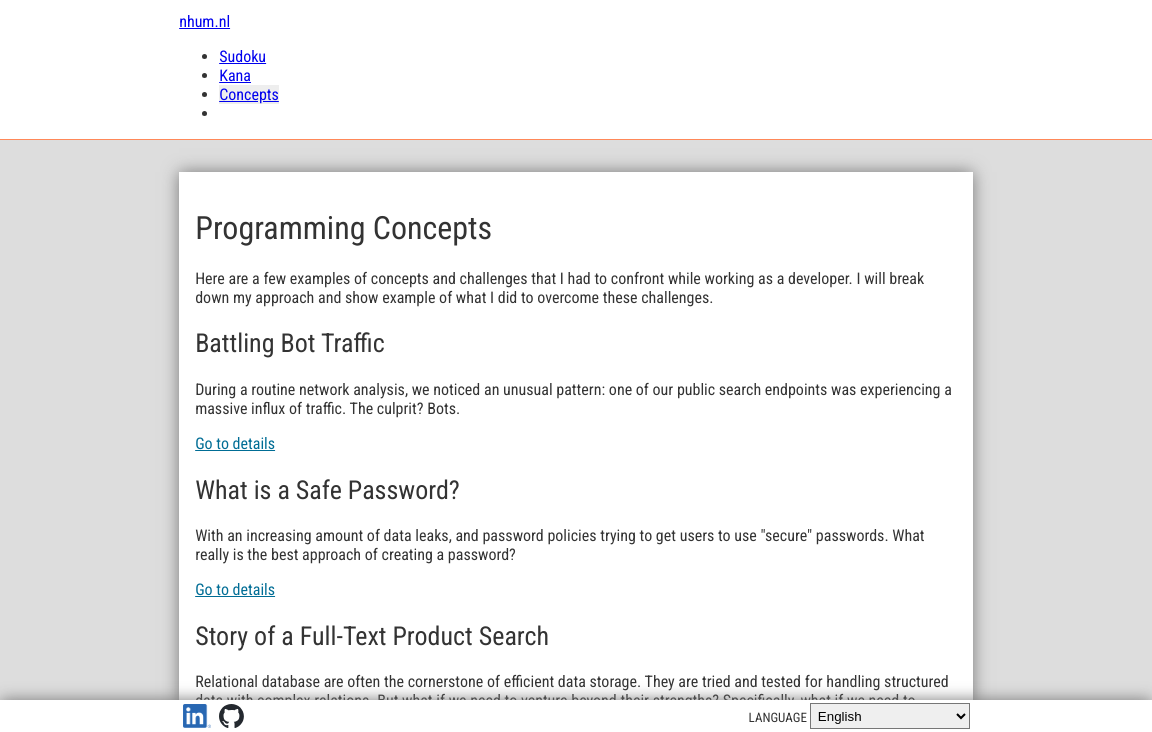
Test: Clicking 'Go to detail' for 'Bots' navigates to the correct sub page
Click the link to "/concepts/bots" at [235, 444], box [195,434,275,453]
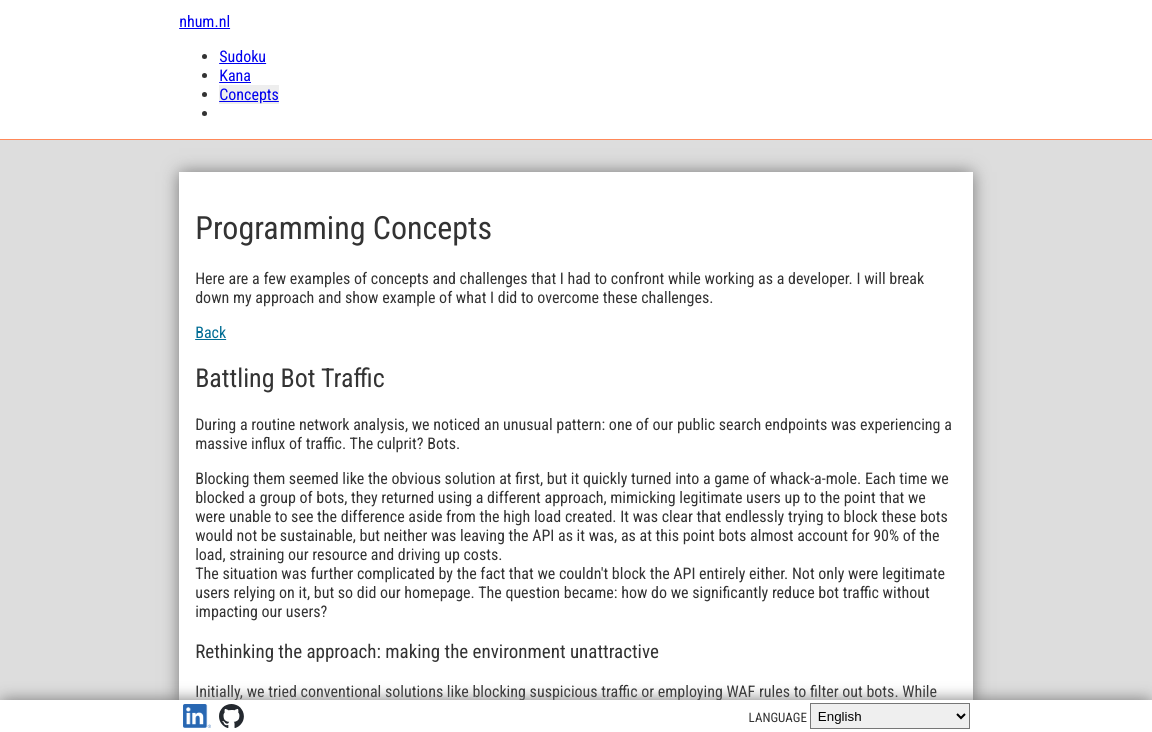
Expected: the heading "Rethinking the approach: making the environment unattractive" is shown, [195,640,659,663]
